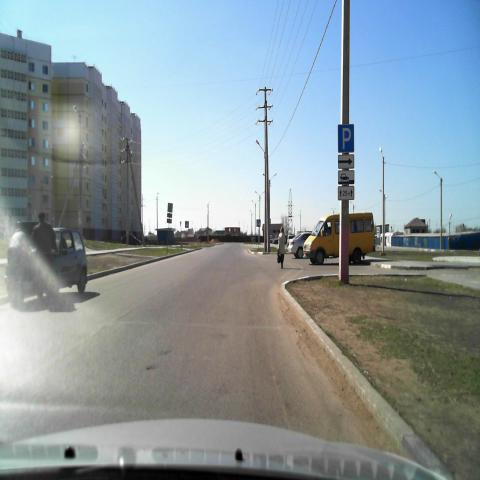8_3_1: (338, 154, 354, 168)
8_6_4: (338, 171, 355, 183)
